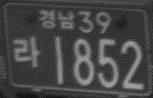1: (53, 35, 65, 85)
2: (120, 39, 144, 91)
3: (77, 9, 94, 33)
5: (97, 37, 120, 90)
8: (71, 37, 95, 86)
9: (95, 10, 112, 36)
경남_O: (39, 9, 75, 30)
라: (12, 36, 40, 69)
